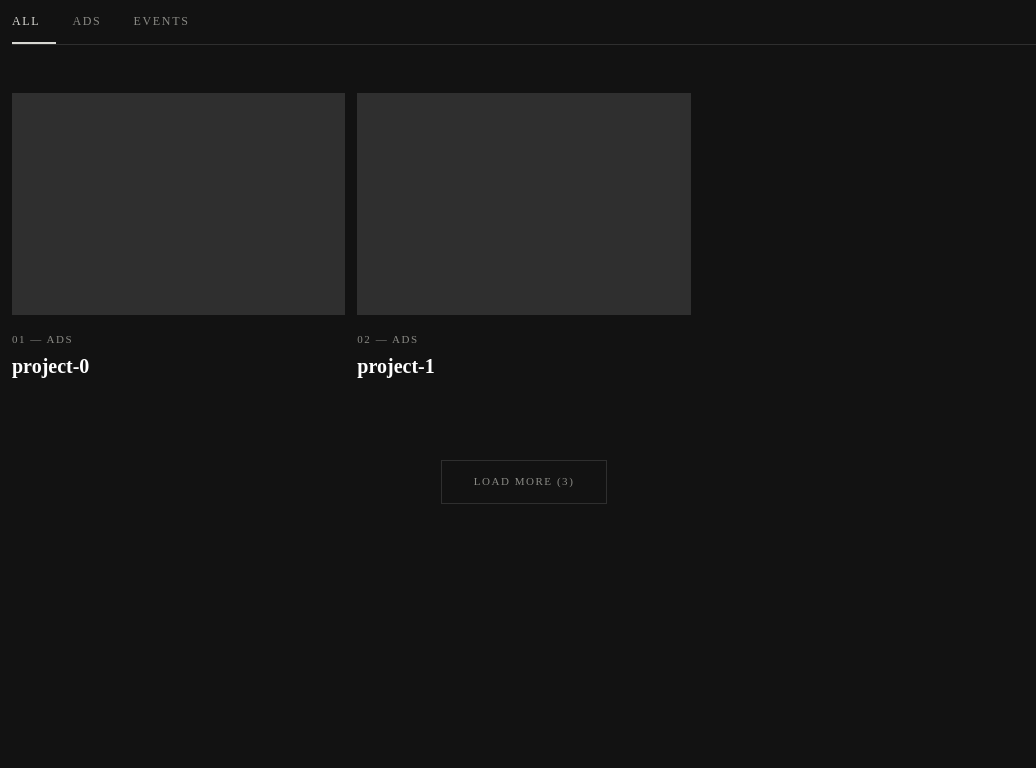
Test: WorkBrowser › reveals more projects on request and then retires the button
Check: the text "project-4" is not shown
Click the button "Load more (3)" at [524, 482], box [441,460,607,504]
(page scrolled)
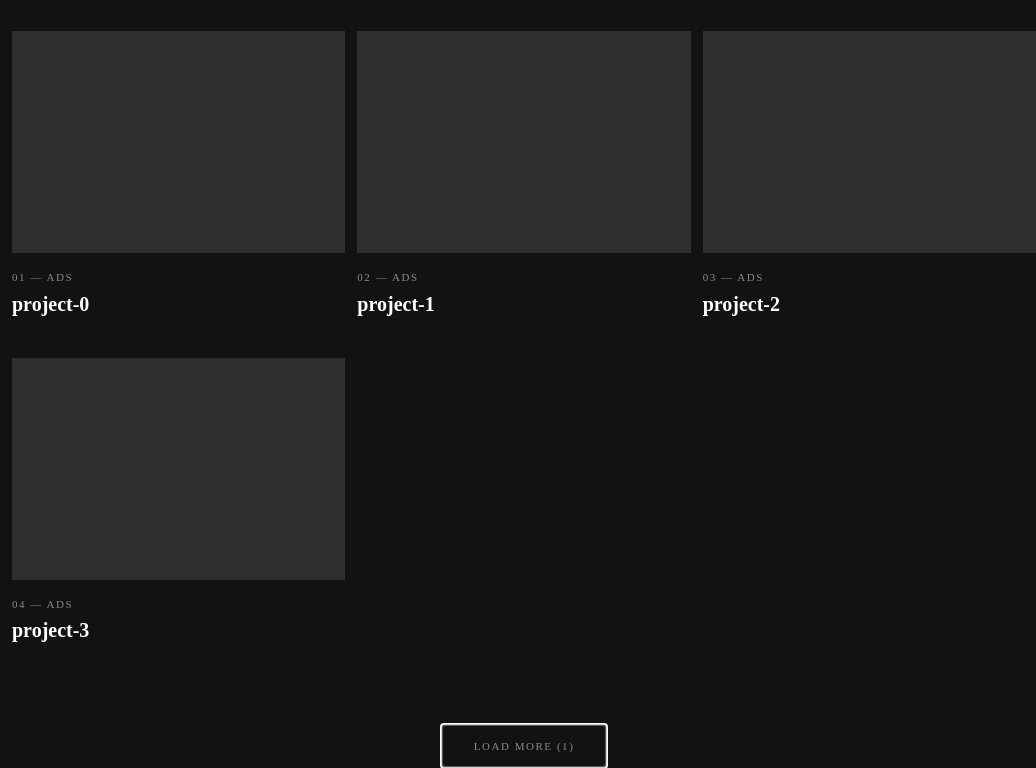
Check: the heading "project-3" is shown, box [12,619,89,641]
Click the button "Load more (1)" at [524, 746], box [441,724,607,767]
(page scrolled)
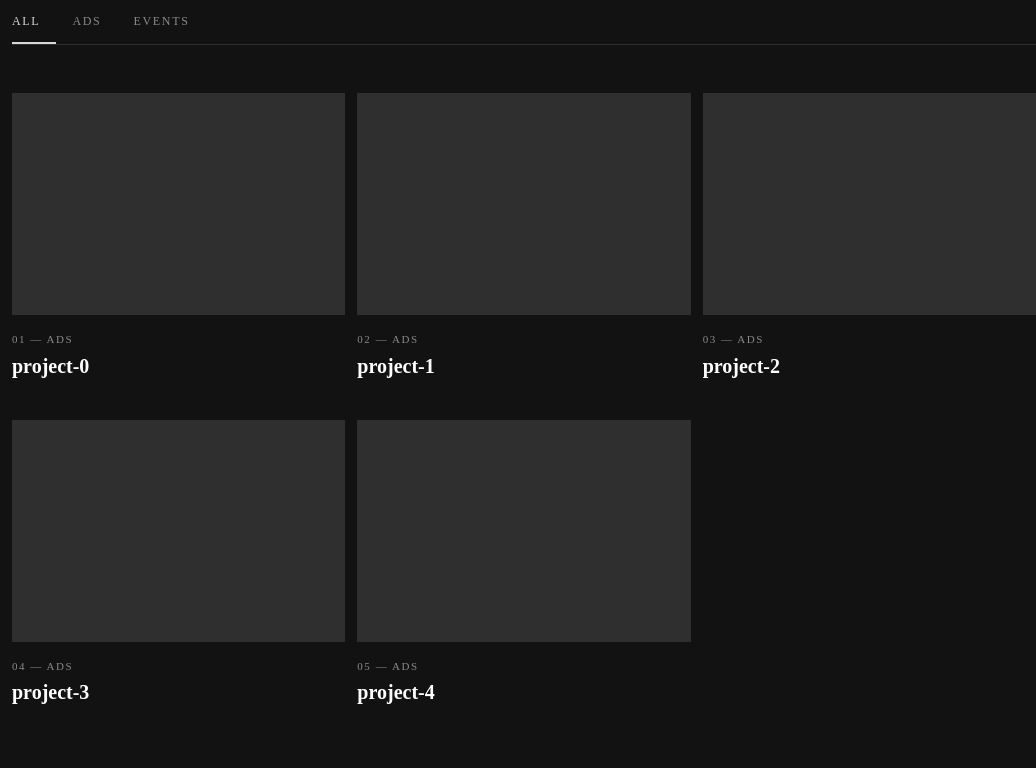
Check: the heading "project-4" is shown, box [357,681,435,703]
Check: the button "Load more" is gone
